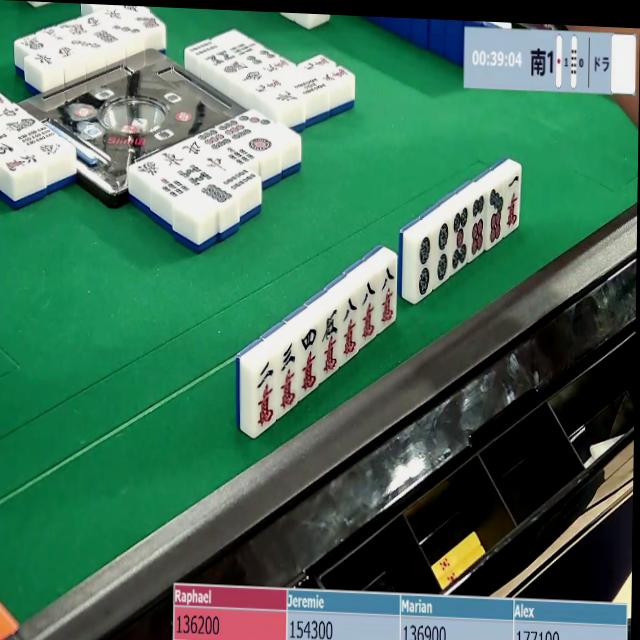1C: (503, 171, 520, 234)
2C: (249, 356, 283, 433)
2D: (414, 231, 436, 302), (434, 220, 453, 287)
3C: (274, 341, 302, 412)
4C: (296, 324, 323, 396)
5B: (293, 75, 328, 98)
5C: (321, 309, 344, 380)
5D: (450, 206, 470, 274)
6D: (468, 194, 486, 261)
7D: (487, 185, 506, 247)
8C: (354, 279, 381, 345), (340, 295, 365, 361), (376, 265, 398, 331)
9D: (214, 118, 254, 144)
